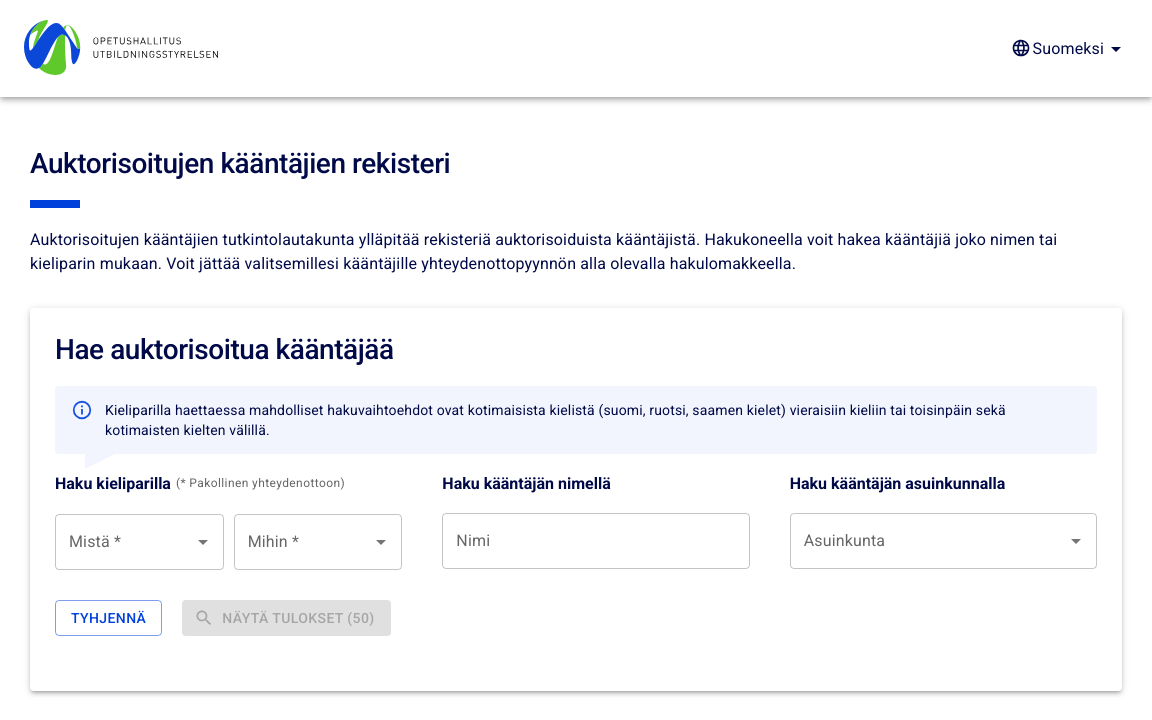
Scenario: PublicTranslatorFilters › it should provide only compulsory languages as toLang options if the fromLang field has a different value
Click the element with test id "public-translator-filters__from-language-select" at x=140, y=542, box [55,514,224,570]
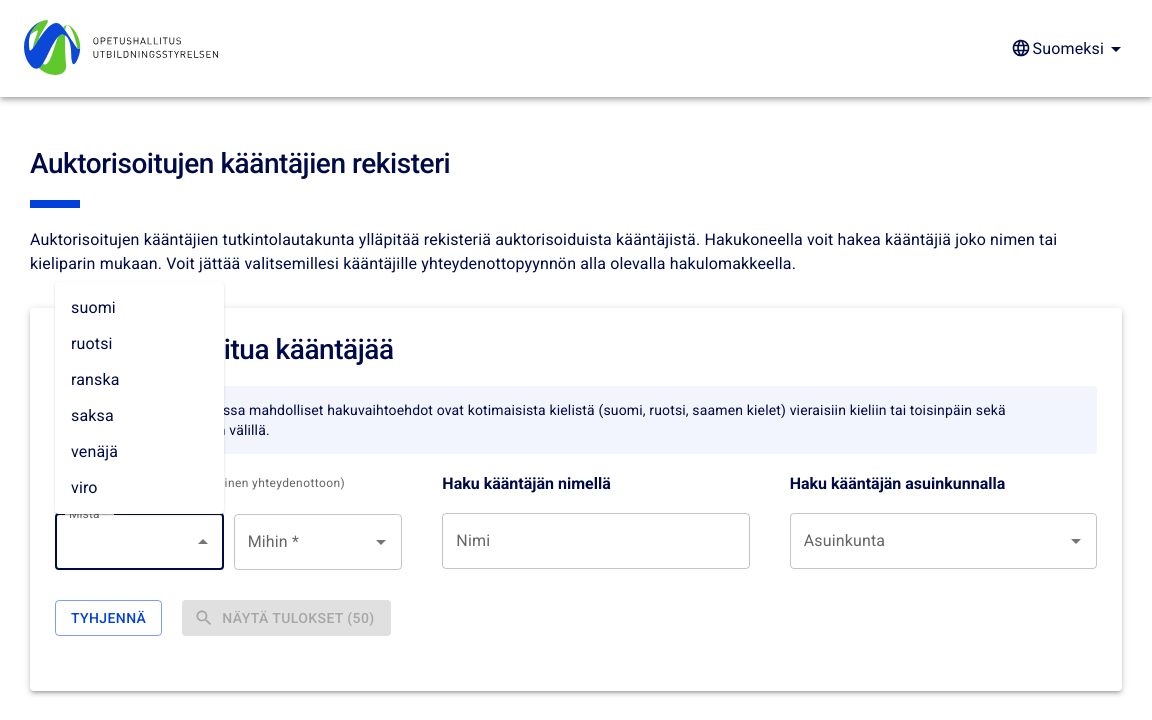
Click the option "viro" at x=85, y=488, box [71,478,98,497]
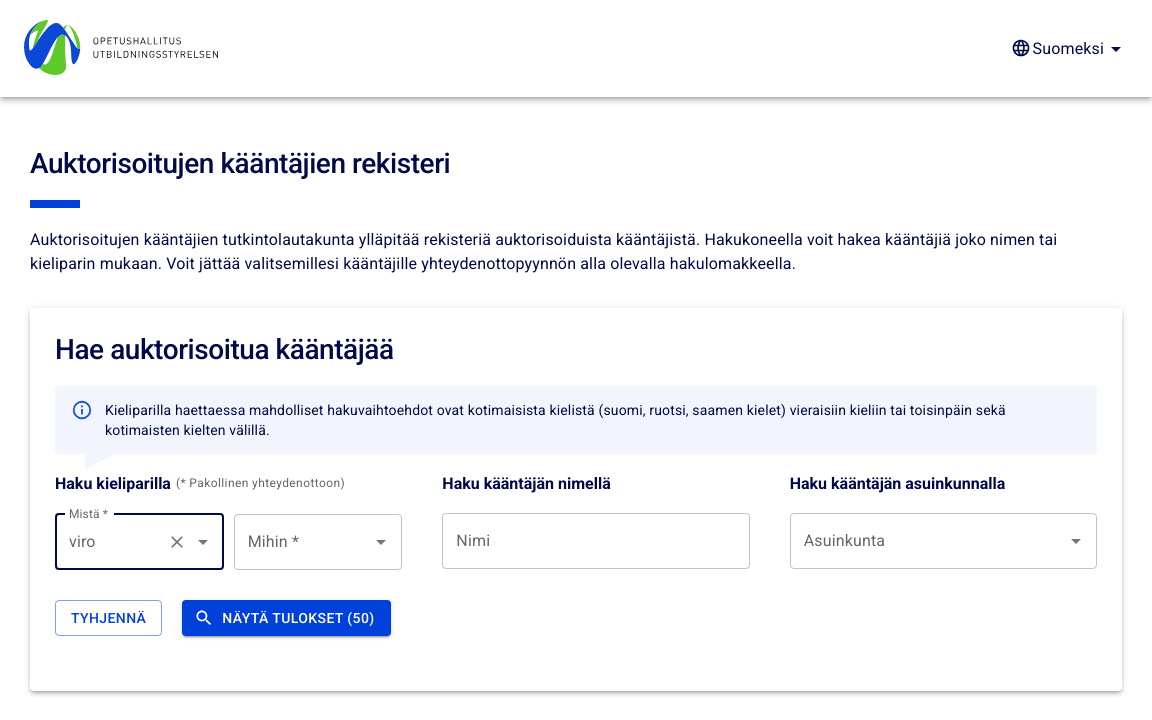
Click the element with test id "public-translator-filters__to-language-select" at x=319, y=542, box [234,514,403,570]
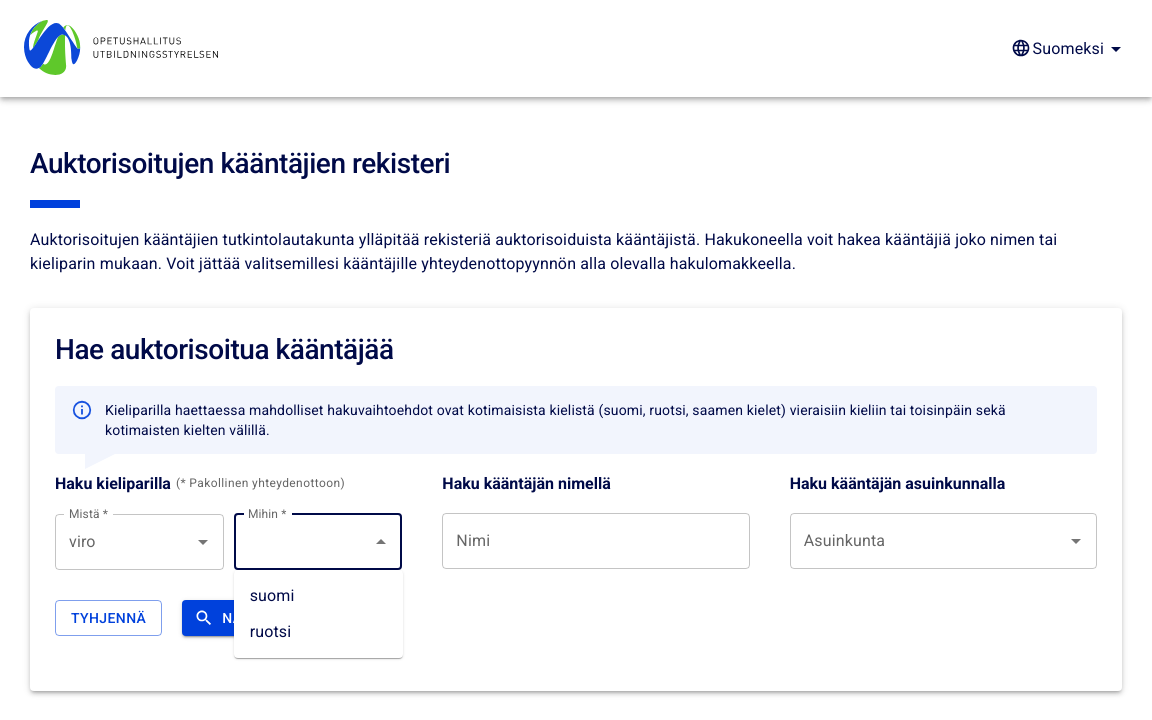
Check: the number of options is 2, box [250,586,295,605]; [250,622,291,641]
Check: the option "suomi" is shown, box [250,586,295,605]
Check: the option "ruotsi" is shown, box [250,622,291,641]
